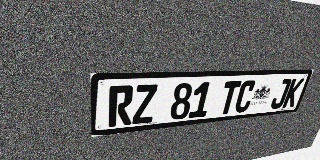1: (188, 82, 213, 118)
8: (169, 83, 194, 120)
C: (233, 80, 257, 113)
J: (269, 79, 292, 109)
K: (282, 78, 305, 108)
R: (108, 85, 134, 127)
T: (217, 81, 242, 115)
Z: (132, 84, 158, 124)
